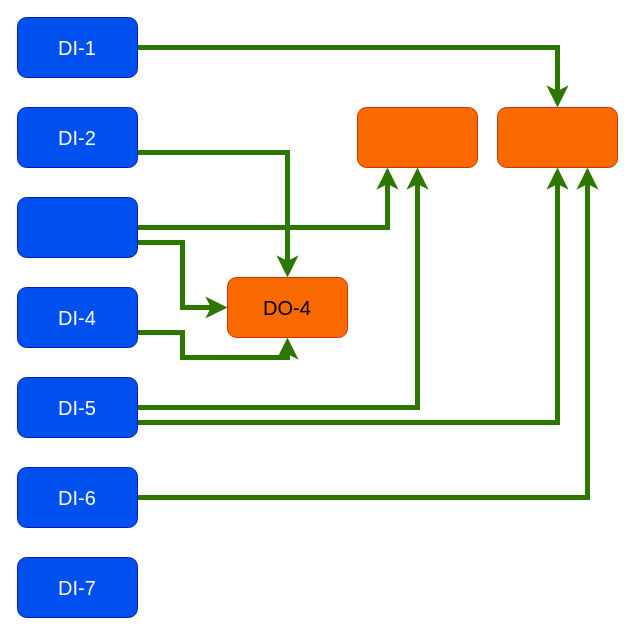
Some shapes in this 635 by 635 pixel diagram are drawn without their labels. Each missing label, with the centre of its shape:
"DI-3" goes at (x=77, y=227).
"DO-2" goes at (x=417, y=137).
"DO-3" goes at (x=557, y=137).
